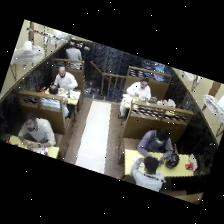person: (118, 79, 151, 119), (18, 114, 55, 148), (137, 129, 173, 161), (131, 157, 164, 191), (54, 67, 78, 90), (66, 40, 82, 61), (63, 98, 72, 119)
